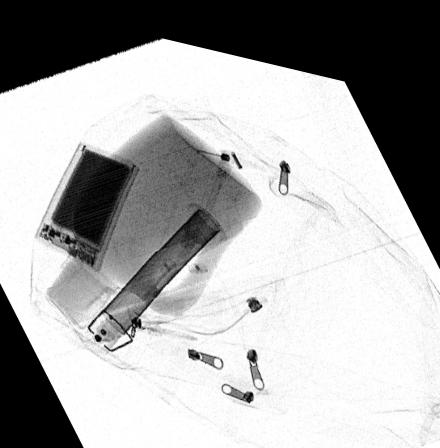Powerbank: (35, 137, 137, 265)
